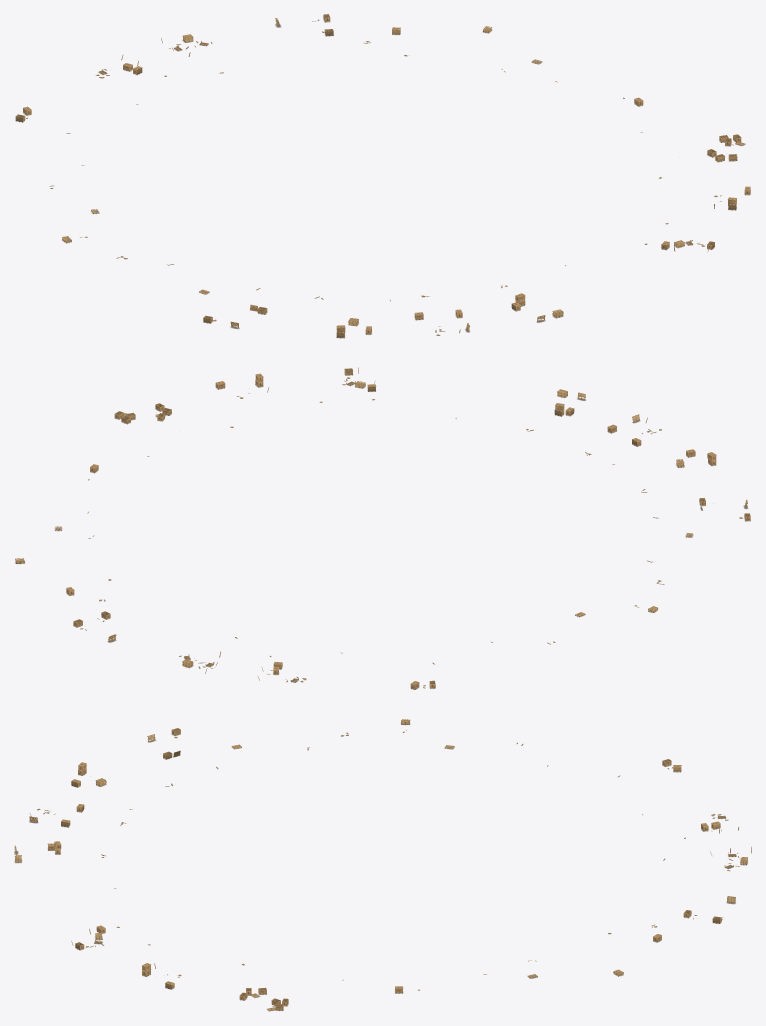
File: world-crates.glb
The picture shows the model from 3 angles, top to bottom: view 1: azimuth 30°, elevation 25°; view 2: azimuth 150°, elevation 25°; view 3: azimuth 270°, elevation 25°; orthographic projection. The views are drawn at different scales.
Bounding box in the file's own units: 88.83 × 1.44 × 95.53.
2 materials, 2 textured.
